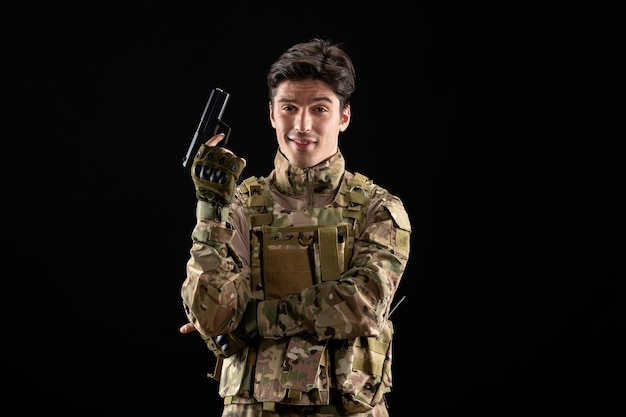gun: (184, 87, 244, 172)
